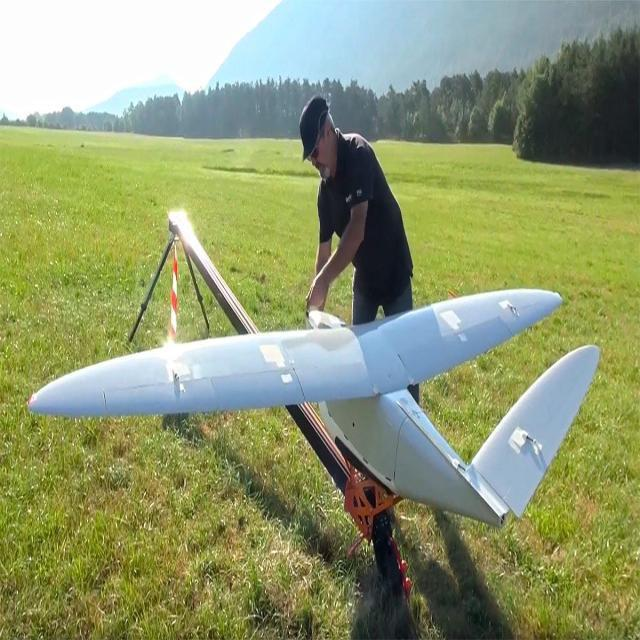iha: (27, 287, 600, 533)
